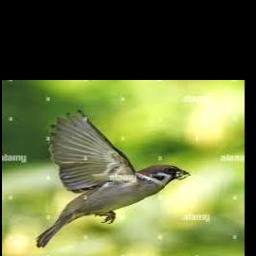Sparrow: (36, 110, 190, 247)
